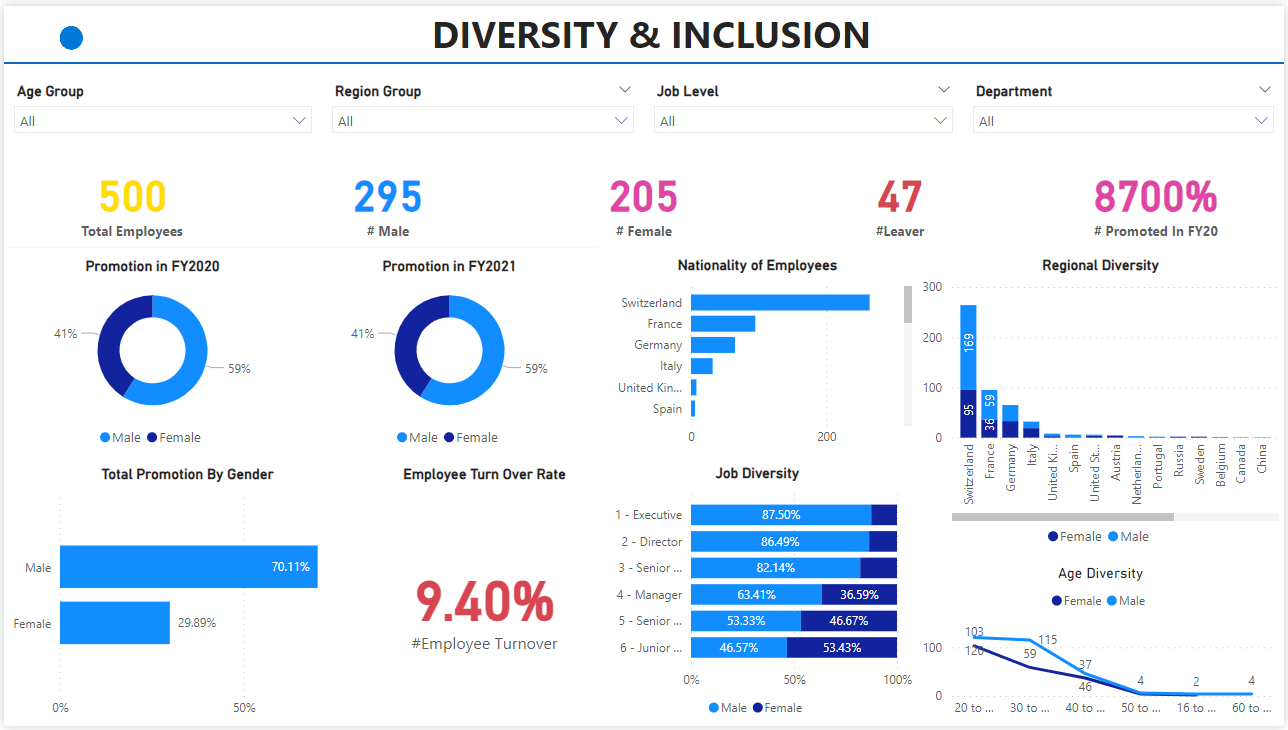

This screenshot's page, from the dashboard's own definition file:
{"tool":"powerbi","page":{"name":"Dashboard 3","canvas":[1280,720],"ordinal":2},"visuals":[{"type":"textbox","box":[0,0,1280,57],"z":0},{"type":"card","fields":{"Values":["Pharma.# male"]},"box":[256,147,256,94],"z":0,"group":"g2"},{"type":"card","fields":{"Values":["CountNonNull(Pharma.Employee ID)"]},"box":[0,147,256,94],"z":6,"group":"g1"},{"type":"slicer","fields":{"Values":["Pharma.Last Department in FY20"]},"box":[959,57,321,90],"z":1000},{"type":"group","id":"g1","title":"Group 1","box":[0,147,256,94],"z":1000,"group":"g2"},{"type":"slicer","fields":{"Values":["Pharma.Job Level after FY20 promotions"]},"box":[640,57,319,90],"z":2000},{"type":"card","fields":{"Values":["Pharma.# Female"]},"box":[512,147,256,94],"z":2000,"group":"g2"},{"type":"slicer","fields":{"Values":["Pharma.Age group"]},"box":[0,57,318,90],"z":3000},{"type":"card","fields":{"Values":["Pharma.#Leaver"]},"box":[768,147,256,94],"z":3000,"group":"g2"},{"type":"slicer","fields":{"Values":["Pharma.Broad region group: nationality 1"]},"box":[318,57,322,90],"z":4000},{"type":"card","fields":{"Values":["Pharma.# Promoted FY20"]},"box":[1024,147,256,94],"z":4000,"group":"g2"},{"type":"shape","box":[0,45,1280,24],"z":5000},{"type":"group","id":"g2","title":"Group 2","box":[0,147,1280,94],"z":6000},{"type":"donutChart","title":"Promotion in FY2020","fields":{"Category":["Pharma.Gender"],"Y":["CountNonNull(Pharma.Promotion in FY20?)"]},"box":[0,242,297,208],"z":7000},{"type":"donutChart","title":"Promotion in FY2021","fields":{"Category":["Pharma.Gender"],"Y":["CountNonNull(Pharma.Nationality 1)"]},"box":[297,242,297,208],"z":8000},{"type":"barChart","title":"Total Promotion By Gender","fields":{"Category":["Pharma.Gender"],"Y":["Pharma.# Promoted In FY20"]},"box":[0,450,367,270],"z":9000},{"type":"card","title":"Employee Turn Over Rate","fields":{"Values":["Pharma.#Employee Turnover"]},"box":[367,450,227,270],"z":10000},{"type":"barChart","title":"Nationality of Employees","fields":{"Y":["CountNonNull(Pharma.Employee ID)"],"Category":["Pharma.Nationality 1"]},"box":[594,241,319,208],"z":11000},{"type":"columnChart","title":"Regional Diversity","fields":{"Category":["Pharma.Nationality 1"],"Y":["CountNonNull(Pharma.Gender)"],"Series":["Pharma.Gender"]},"box":[913,241,367,308],"z":12000},{"type":"hundredPercentStackedBarChart","title":"Job Diversity","fields":{"Category":["Pharma.Job Level after FY20 promotions"],"Series":["Pharma.Gender"],"Y":["Divide(CountNonNull(Pharma.Gender), ScopedEval(CountNonNull(Pharma.Gender), []))"]},"box":[594,449,319,271],"z":13000},{"type":"lineChart","title":"Age Diversity","fields":{"Series":["Pharma.Gender"],"Category":["Pharma.Age group"],"Y":["CountNonNull(Pharma.Employee ID)"]},"box":[913,549,367,171],"z":14000}]}

Visuals, with their boxes in screenshot pixels (x1, y1, x2, y2), scaled from the page's 1280x720 canvas onto the 1288x730 screenshot:
textbox: [0,0,1287,58]
card - Pharma.# male: [258,149,515,244]
card - CountNonNull(Pharma.Employee ID): [0,149,258,244]
slicer - Pharma.Last Department in FY20: [965,58,1287,149]
"Group 1" group: [0,149,258,244]
slicer - Pharma.Job Level after FY20 promotions: [644,58,965,149]
card - Pharma.# Female: [515,149,773,244]
slicer - Pharma.Age group: [0,58,320,149]
card - Pharma.#Leaver: [773,149,1030,244]
slicer - Pharma.Broad region group: nationality 1: [320,58,644,149]
card - Pharma.# Promoted FY20: [1030,149,1287,244]
shape: [0,46,1287,70]
"Group 2" group: [0,149,1287,244]
"Promotion in FY2020" donutChart: [0,245,299,456]
"Promotion in FY2021" donutChart: [299,245,598,456]
"Total Promotion By Gender" barChart: [0,456,369,729]
"Employee Turn Over Rate" card: [369,456,598,729]
"Nationality of Employees" barChart: [598,244,919,455]
"Regional Diversity" columnChart: [919,244,1287,557]
"Job Diversity" hundredPercentStackedBarChart: [598,455,919,729]
"Age Diversity" lineChart: [919,557,1287,729]
